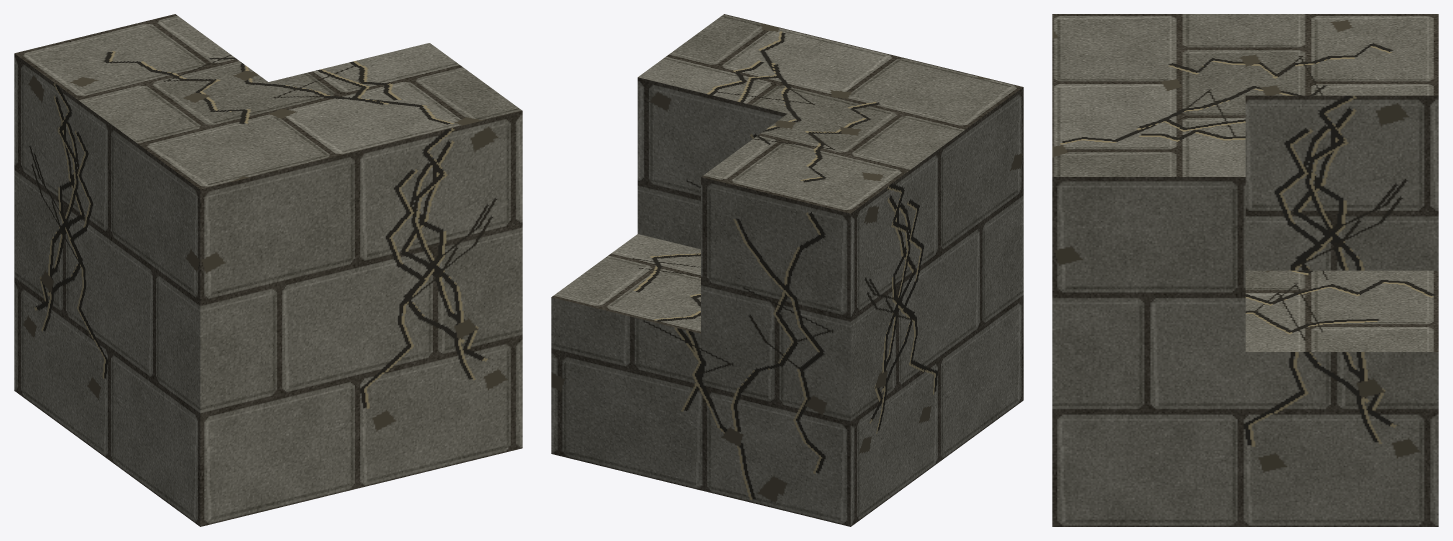
The model's file is stone_z2.glb.
The picture shows the model from 3 angles, left to right: view 1: azimuth 30°, elevation 25°; view 2: azimuth 150°, elevation 25°; view 3: azimuth 270°, elevation 25°; orthographic projection. The views are drawn at different scales.
Parts seen in each view (by area): view 1: stone_z2; view 2: stone_z2; view 3: stone_z2.
Boxes of the visible parts, <box> form: stone_z2: <box>14,14,522,526</box>; stone_z2: <box>551,14,1023,526</box>; stone_z2: <box>1052,14,1438,526</box>.
Bounding box in the file's own units: 1 × 1 × 1.
Materials: 1 (1 with a texture image).
